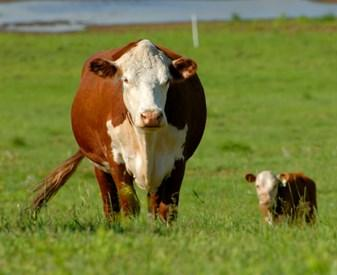muzzles: (134, 109, 168, 134)
